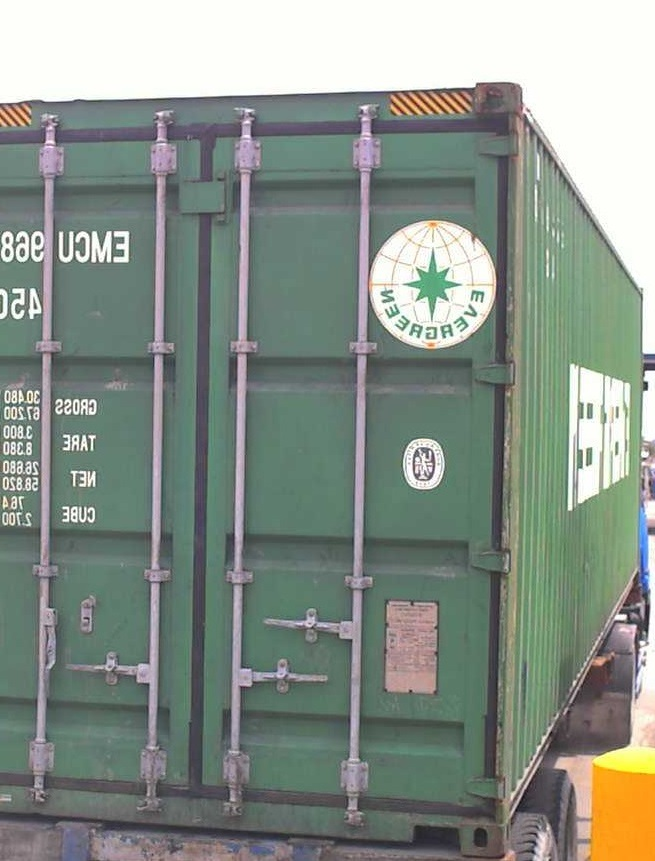container_door: (2, 82, 514, 855)
